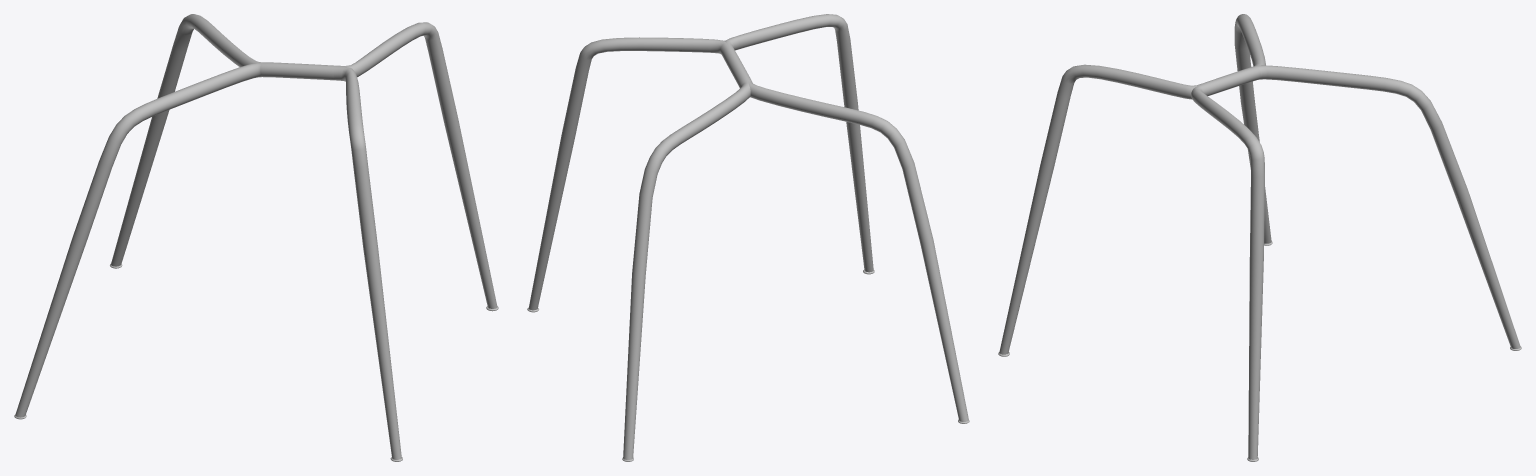
Rendered from tablechair_0102_leg.glb.
3 renders of one model, left to right at view 1: azimuth 30°, elevation 25°; view 2: azimuth 150°, elevation 25°; view 3: azimuth 270°, elevation 25°, orthographic. The views are drawn at different scales.
Parts seen in each view (by area): view 1: tablechair_0102_leg; view 2: tablechair_0102_leg; view 3: tablechair_0102_leg.
Boxes of the visible parts, x1=… form: tablechair_0102_leg: x1=14, y1=14, x2=498, y2=461; tablechair_0102_leg: x1=527, y1=14, x2=969, y2=461; tablechair_0102_leg: x1=998, y1=14, x2=1521, y2=461.
Size of the model in its own units: 0.7406 by 0.4581 by 0.7406.
Materials: 1 (1 with a texture image).
